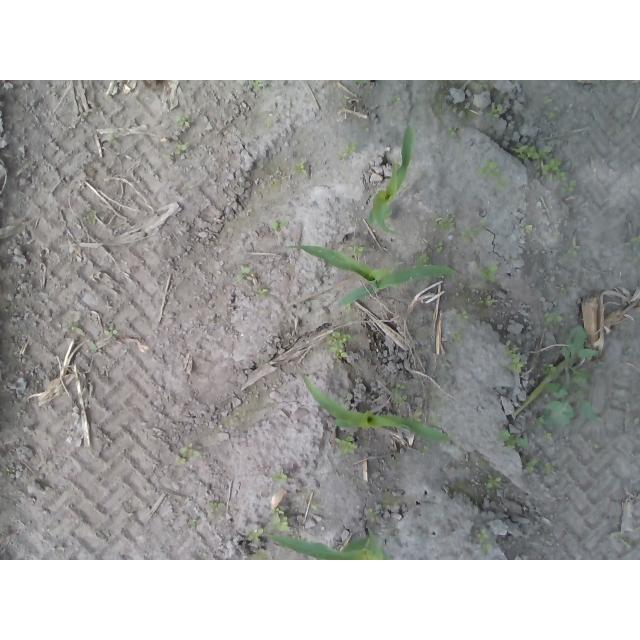Maize: (281, 239, 463, 310), (302, 371, 454, 445), (369, 120, 419, 237), (259, 525, 402, 560)
Weeds: (541, 324, 603, 425), (538, 157, 578, 193), (504, 344, 528, 376), (494, 430, 530, 450), (327, 332, 353, 359), (175, 445, 202, 467), (334, 435, 359, 457), (270, 506, 290, 532), (513, 144, 545, 160), (475, 158, 502, 176), (542, 95, 558, 122), (477, 530, 495, 552), (389, 383, 406, 406), (483, 474, 501, 495), (478, 263, 498, 281), (447, 103, 470, 118), (339, 142, 359, 159), (543, 311, 565, 325), (622, 234, 640, 251), (434, 215, 454, 229), (246, 528, 264, 543), (489, 102, 504, 119), (347, 244, 368, 256), (540, 463, 556, 478), (447, 331, 463, 346), (269, 220, 287, 233), (523, 458, 538, 473), (63, 321, 81, 333), (462, 227, 479, 239), (563, 247, 581, 258), (447, 125, 461, 139), (209, 500, 226, 511), (498, 175, 511, 189), (366, 505, 376, 523), (271, 471, 289, 481), (104, 325, 121, 335), (293, 163, 307, 175), (417, 253, 431, 264), (458, 311, 472, 322), (479, 298, 498, 306), (177, 116, 189, 128), (255, 287, 270, 296), (435, 240, 446, 252), (238, 264, 251, 274), (351, 81, 369, 88), (249, 80, 263, 89), (520, 223, 531, 233), (177, 143, 188, 150)
